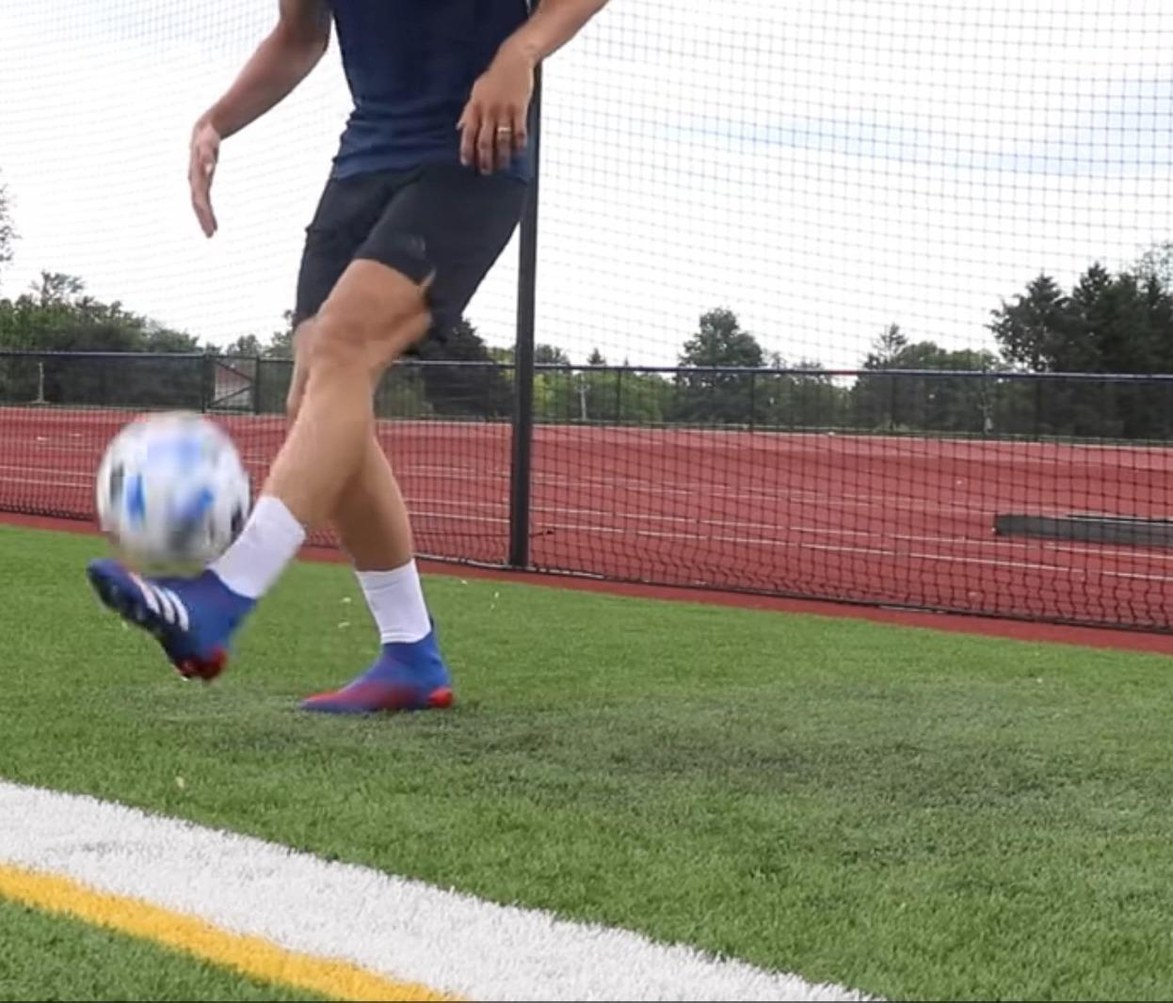ball: (91, 410, 246, 570)
foot: (89, 559, 256, 685), (294, 630, 454, 713)
person: (100, 0, 607, 719)
